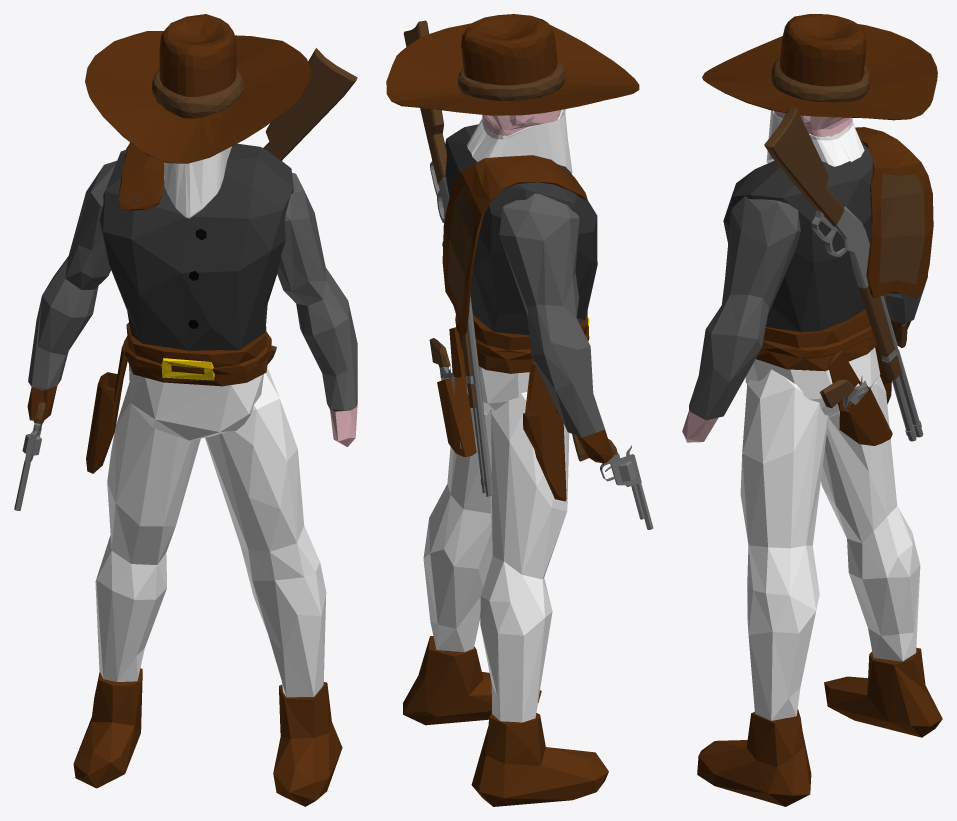
The model's file is 3D charactercoll.fbx.
The picture shows the model from 3 angles, left to right: view 1: azimuth 30°, elevation 25°; view 2: azimuth 150°, elevation 25°; view 3: azimuth 270°, elevation 25°; orthographic projection.
Parts seen in each view (by area): view 1: Torso.001, pants.001, Hat.002, Shoes.002, Belt.001, Rifle.001, Mask.001, emptyHolster.001, Cape.002, Gun.001; view 2: pants.001, Torso.001, Hat.002, Shoes.002, Cape.002, Rifle.001, emptyHolster.001, holstered weapon.002, Mask.001, Belt.001, Gun.001, Head.001; view 3: pants.001, Torso.001, Hat.002, Shoes.002, Cape.002, Rifle.001, Belt.001, holstered weapon.002, Mask.001, Head.001.
Part boxes in pixels (left/top/right/bottom): Torso.001: left=27, top=143, right=357, bottom=447; pants.001: left=95, top=365, right=326, bottom=697; Hat.002: left=85, top=14, right=310, bottom=163; Shoes.002: left=73, top=668, right=342, bottom=806; Belt.001: left=123, top=322, right=271, bottom=386; Rifle.001: left=263, top=48, right=357, bottom=160; Mask.001: left=164, top=146, right=231, bottom=218; emptyHolster.001: left=86, top=343, right=127, bottom=473; Cape.002: left=118, top=142, right=164, bottom=211; Gun.001: left=14, top=402, right=45, bottom=510; pants.001: left=423, top=353, right=569, bottom=722; Torso.001: left=442, top=124, right=613, bottom=463; Hat.002: left=386, top=14, right=639, bottom=115; Shoes.002: left=403, top=636, right=608, bottom=806; Cape.002: left=442, top=155, right=587, bottom=336; Rifle.001: left=403, top=20, right=493, bottom=496; emptyHolster.001: left=523, top=362, right=566, bottom=501; holstered weapon.002: left=429, top=327, right=476, bottom=456; Mask.001: left=467, top=109, right=572, bottom=173; Belt.001: left=455, top=311, right=589, bottom=373; Gun.001: left=572, top=434, right=653, bottom=529; Head.001: left=482, top=110, right=560, bottom=135; pants.001: left=740, top=347, right=920, bottom=720; Torso.001: left=682, top=142, right=928, bottom=442; Hat.002: left=702, top=14, right=937, bottom=120; Shoes.002: left=697, top=647, right=942, bottom=806; Cape.002: left=855, top=127, right=933, bottom=298; Rifle.001: left=764, top=105, right=923, bottom=441; Belt.001: left=756, top=309, right=876, bottom=371; holstered weapon.002: left=819, top=350, right=892, bottom=445; Mask.001: left=766, top=110, right=864, bottom=166; Head.001: left=773, top=111, right=852, bottom=136.
Size of the model in its own units: 235 by 564 by 182.
